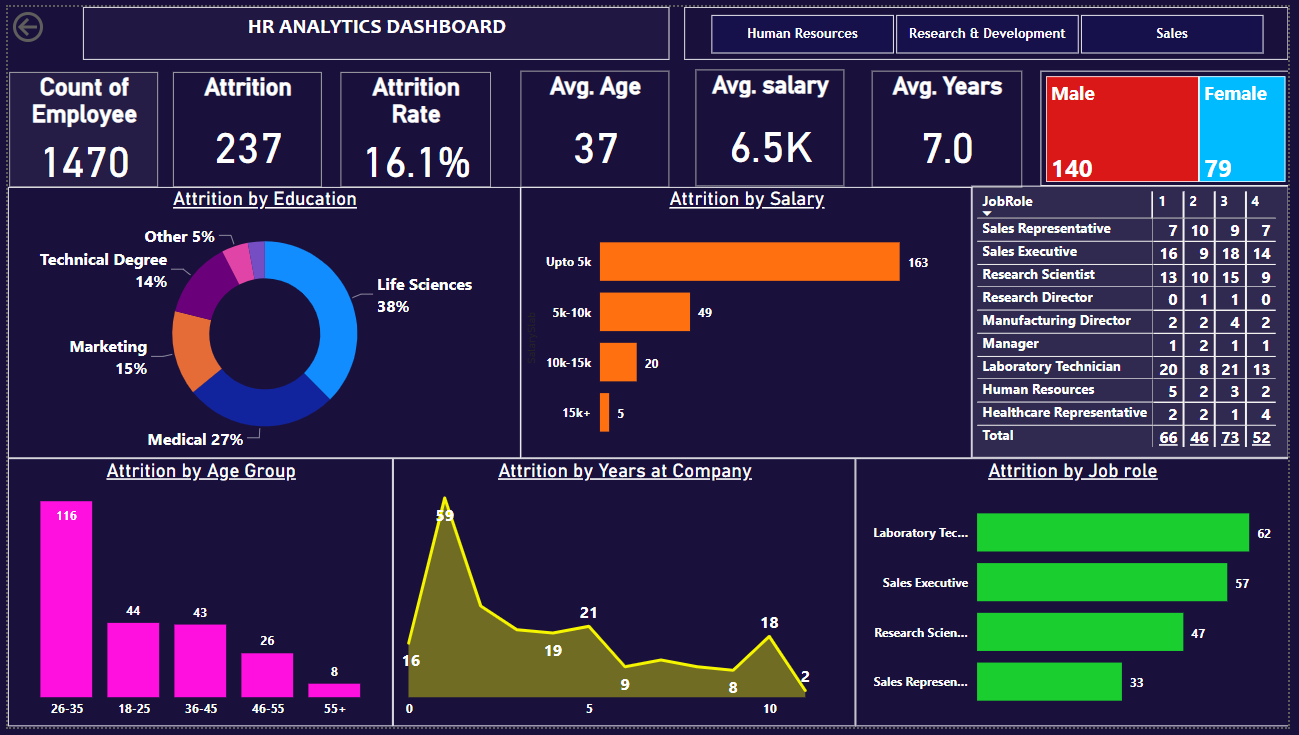

Layout of this report page (visuals, bound fields, positions):
{"tool":"powerbi","page":{"name":"Page 1","canvas":[1280,720],"ordinal":0},"visuals":[{"type":"card","title":"Count of Employee","fields":{"Values":["CountNonNull(HR_Analytics.EmpID)"]},"box":[1.2,65,148.8,115],"z":0},{"type":"card","title":"Attrition","fields":{"Values":["Sum(HR_Analytics.Attrition_count)"]},"box":[165,65,148.8,115],"z":1000},{"type":"card","title":"Attrition Rate","fields":{"Values":["HR_Analytics.Attration_rate"]},"box":[332.5,65,150,115],"z":2000},{"type":"card","title":"Avg. Age","fields":{"Values":["Avg(HR_Analytics.Age)"]},"box":[512.5,63.9,148.6,116.7],"z":3000},{"type":"actionButton","box":[0,0,100,40],"z":4000},{"type":"card","title":"Avg. salary","fields":{"Values":["Avg(HR_Analytics.MonthlyIncome)"]},"box":[687.5,62.5,148.6,116.7],"z":5000},{"type":"card","title":"Avg. Years","fields":{"Values":["Avg(HR_Analytics.YearsAtCompany)"]},"box":[863.9,63.9,150,116.7],"z":6000},{"type":"donutChart","title":"Attrition by Education","fields":{"Category":["HR_Analytics.EducationField"],"Y":["Sum(HR_Analytics.Attrition_count)"]},"box":[0,180.6,512.5,270.8],"z":7000},{"type":"columnChart","title":"Attrition by Age Group","fields":{"Category":["HR_Analytics.AgeGroup"],"Y":["Sum(HR_Analytics.Attrition_count)"]},"box":[0,451.4,384.7,268.1],"z":8000},{"type":"pivotTable","fields":{"Rows":["HR_Analytics.JobRole"],"Columns":["HR_Analytics.JobSatisfaction"],"Values":["Sum(HR_Analytics.Attrition_count)"]},"box":[963.9,179.2,316.7,272.2],"z":9000},{"type":"barChart","title":"Attrition by Salary","fields":{"Category":["HR_Analytics.SalarySlab"],"Y":["Sum(HR_Analytics.Attrition_count)"]},"box":[512.5,180.6,451.4,270.8],"z":9001},{"type":"barChart","title":"Attrition by Job role","fields":{"Category":["HR_Analytics.JobRole"],"Y":["Sum(HR_Analytics.Attrition_count)"]},"box":[847.2,451.4,433.3,268.1],"z":9002},{"type":"areaChart","title":"Attrition by Years at Company","fields":{"Category":["HR_Analytics.YearsAtCompany"],"Y":["Sum(HR_Analytics.Attrition_count)"]},"box":[384.7,451.4,462.5,268.1],"z":9003},{"type":"treemap","title":"Attrition by Age Group","fields":{"Group":["HR_Analytics.Gender"],"Values":["Sum(HR_Analytics.Attrition_count)"]},"box":[1031.9,63.9,248.6,115.3],"z":9004},{"type":"slicer","fields":{"Values":["HR_Analytics.Department"]},"box":[676.4,0,604.2,52.8],"z":9005},{"type":"textbox","box":[75,0,586.1,52.8],"z":9006}]}

Visuals, with their boxes in screenshot pixels (x1, y1, x2, y2), scaled from the page's 1280x720 canvas onto the 1299x735 screenshot:
"Count of Employee" card: 1, 66, 152, 184
"Attrition" card: 167, 66, 318, 184
"Attrition Rate" card: 337, 66, 490, 184
"Avg. Age" card: 520, 65, 671, 184
actionButton: 0, 0, 101, 41
"Avg. salary" card: 698, 64, 849, 183
"Avg. Years" card: 877, 65, 1029, 184
"Attrition by Education" donutChart: 0, 184, 520, 461
"Attrition by Age Group" columnChart: 0, 461, 390, 734
pivotTable - HR_Analytics.JobRole x HR_Analytics.JobSatisfaction: 978, 183, 1298, 461
"Attrition by Salary" barChart: 520, 184, 978, 461
"Attrition by Job role" barChart: 860, 461, 1298, 734
"Attrition by Years at Company" areaChart: 390, 461, 860, 734
"Attrition by Age Group" treemap: 1047, 65, 1298, 183
slicer - HR_Analytics.Department: 686, 0, 1298, 54
textbox: 76, 0, 671, 54
